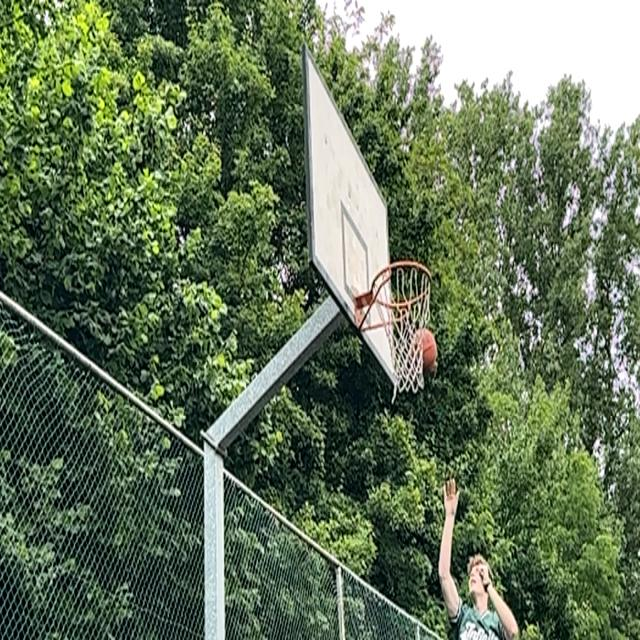Basketball: (411, 326, 437, 374)
